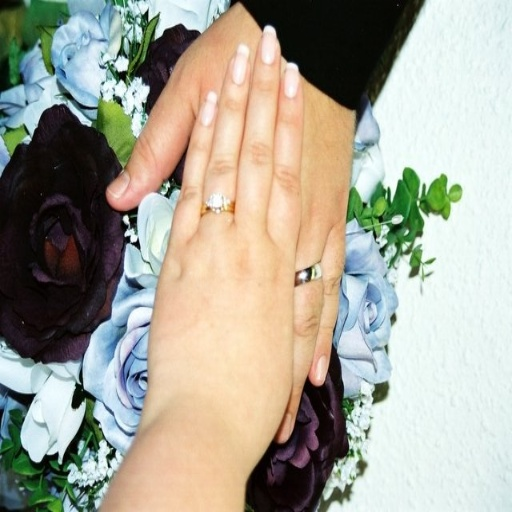hand: (106, 2, 359, 448)
